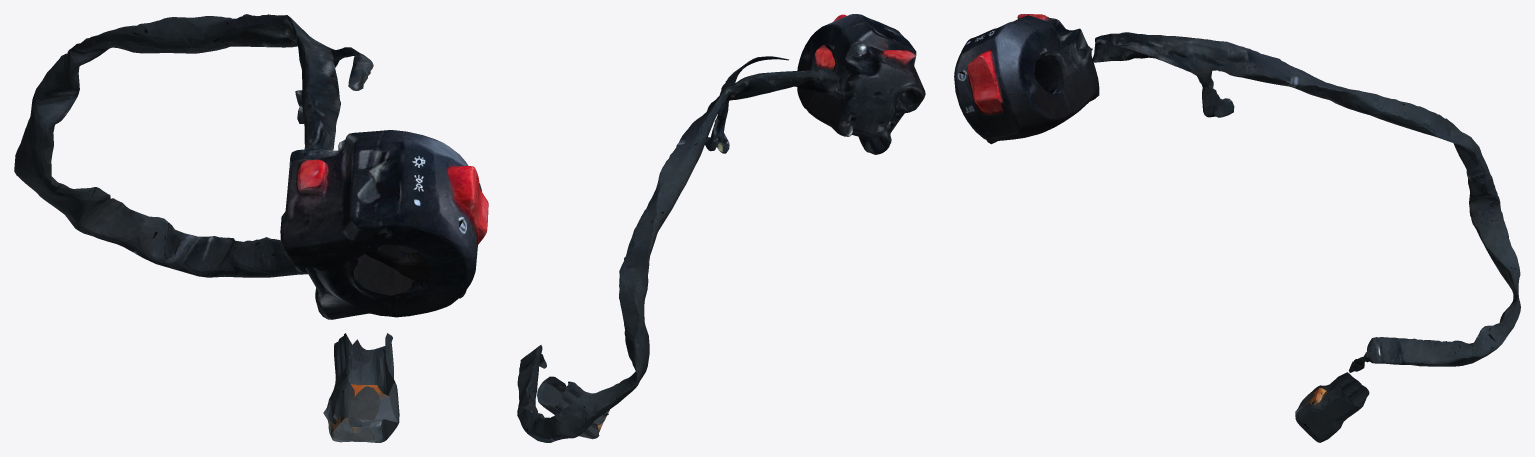
Rendered from SPD-35100X-B.obj.
The picture shows the model from 3 angles, left to right: view 1: azimuth 30°, elevation 25°; view 2: azimuth 150°, elevation 25°; view 3: azimuth 270°, elevation 25°; orthographic projection. The views are drawn at different scales.
Visible parts, largest first — view 1: SPD-35100X-B; view 2: SPD-35100X-B; view 3: SPD-35100X-B.
Part boxes in pixels (<box>): SPD-35100X-B: <box>14,14,488,442</box>; SPD-35100X-B: <box>517,14,925,442</box>; SPD-35100X-B: <box>954,14,1520,442</box>.
Size of the model in its own units: 149 by 210 by 306.
Materials: 1 (1 with a texture image).
